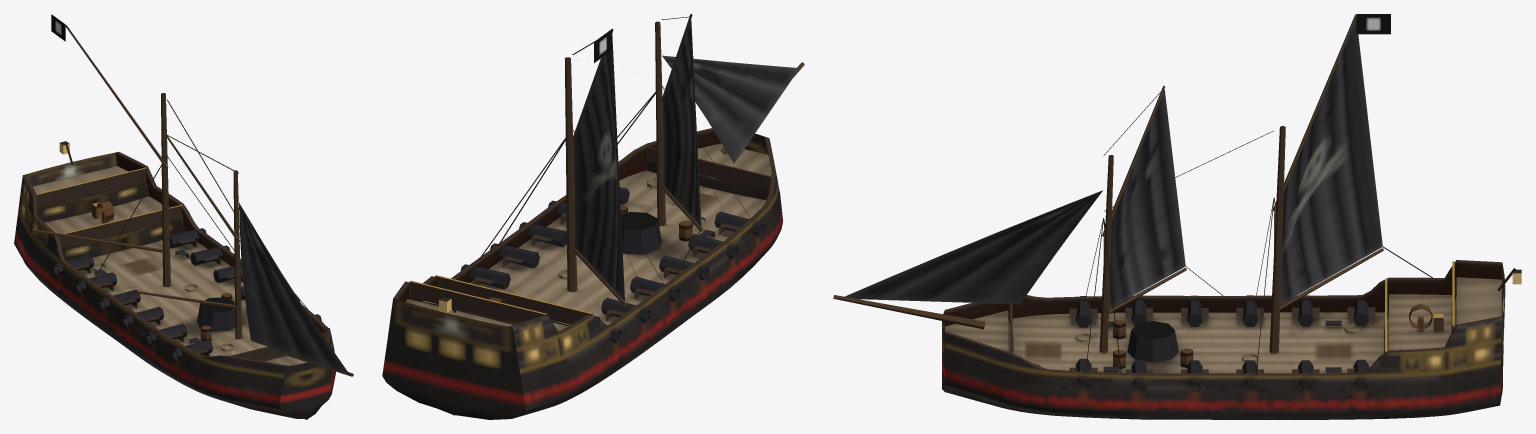
File: npc_pirate_gunboat.c0e38d17.glb
The picture shows the model from 3 angles, left to right: view 1: azimuth 30°, elevation 25°; view 2: azimuth 150°, elevation 25°; view 3: azimuth 270°, elevation 25°; orthographic projection. The views are drawn at different scales.
Parts seen in each view (by area): view 1: npc_pirate_gunboat_lod0; view 2: npc_pirate_gunboat_lod0; view 3: npc_pirate_gunboat_lod0.
Part boxes in pixels (<box>): npc_pirate_gunboat_lod0: <box>14,14,353,419</box>; npc_pirate_gunboat_lod0: <box>382,14,804,419</box>; npc_pirate_gunboat_lod0: <box>833,14,1521,419</box>.
Size of what is drawn, in the model's own units: 11.28 by 19.37 by 34.7.
1 material, 1 textured.
